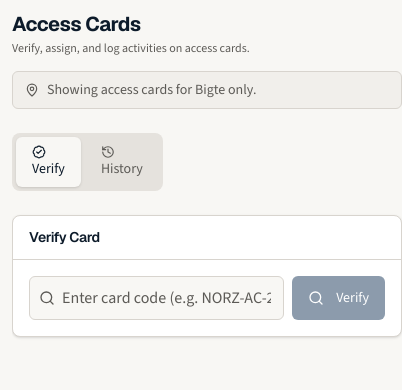
it: CoordinatorAccessCardsPage › reports an unknown card code
Type "NOPE-1" into the field labelled "Enter card code (e.g. NORZ-AC-2026-0001)".
click(157, 298); type("NOPE-1")  # box [29,276,284,320]
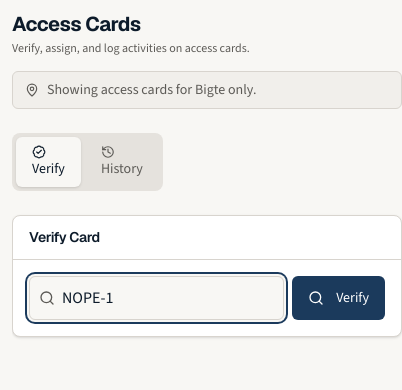
Click the button "Verify".
click(339, 298)  # box [292,276,385,320]
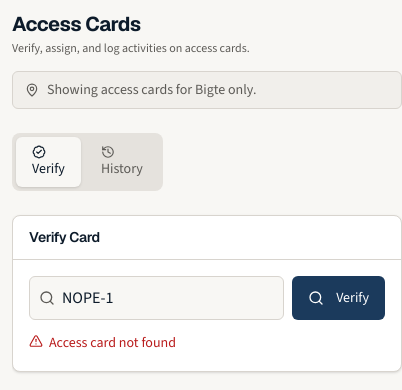
Expected: the message reads "Access card not found", [49,333,176,352]
